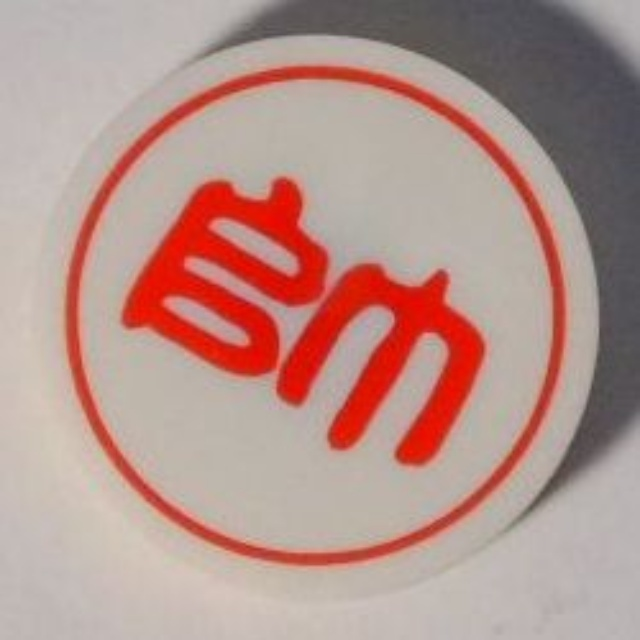red_tuong: (31, 33, 597, 601)
